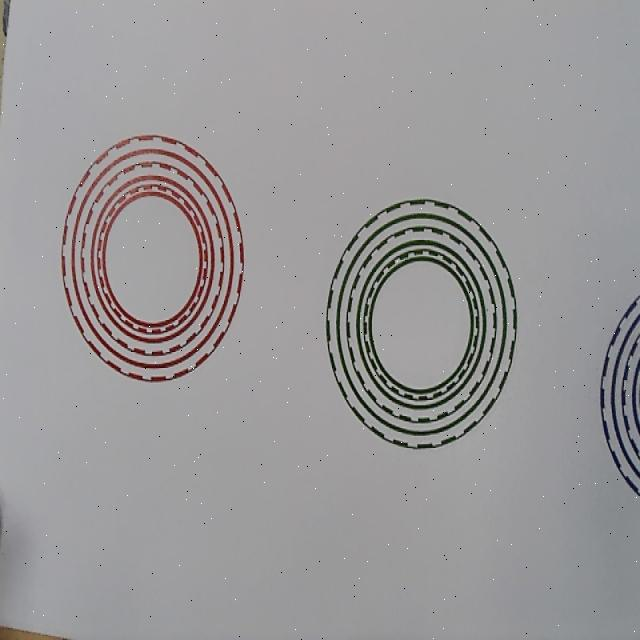g: (326, 197, 516, 451)
red-green-blue: (61, 134, 244, 383)
